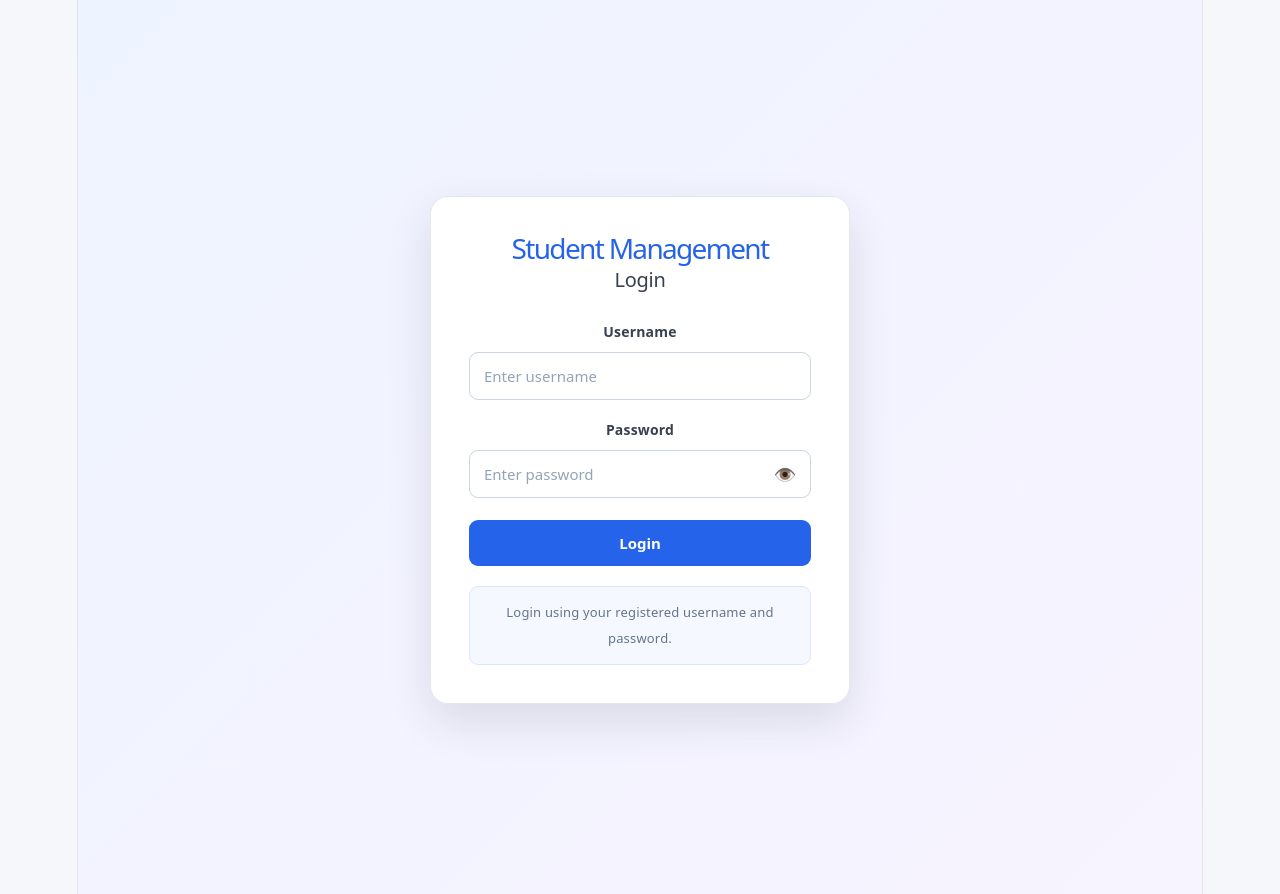
Test case: opens the Change Password form
Type "testuser" into the field labelled "Username".
click(640, 376); type("testuser")  # box [469,352,811,400]
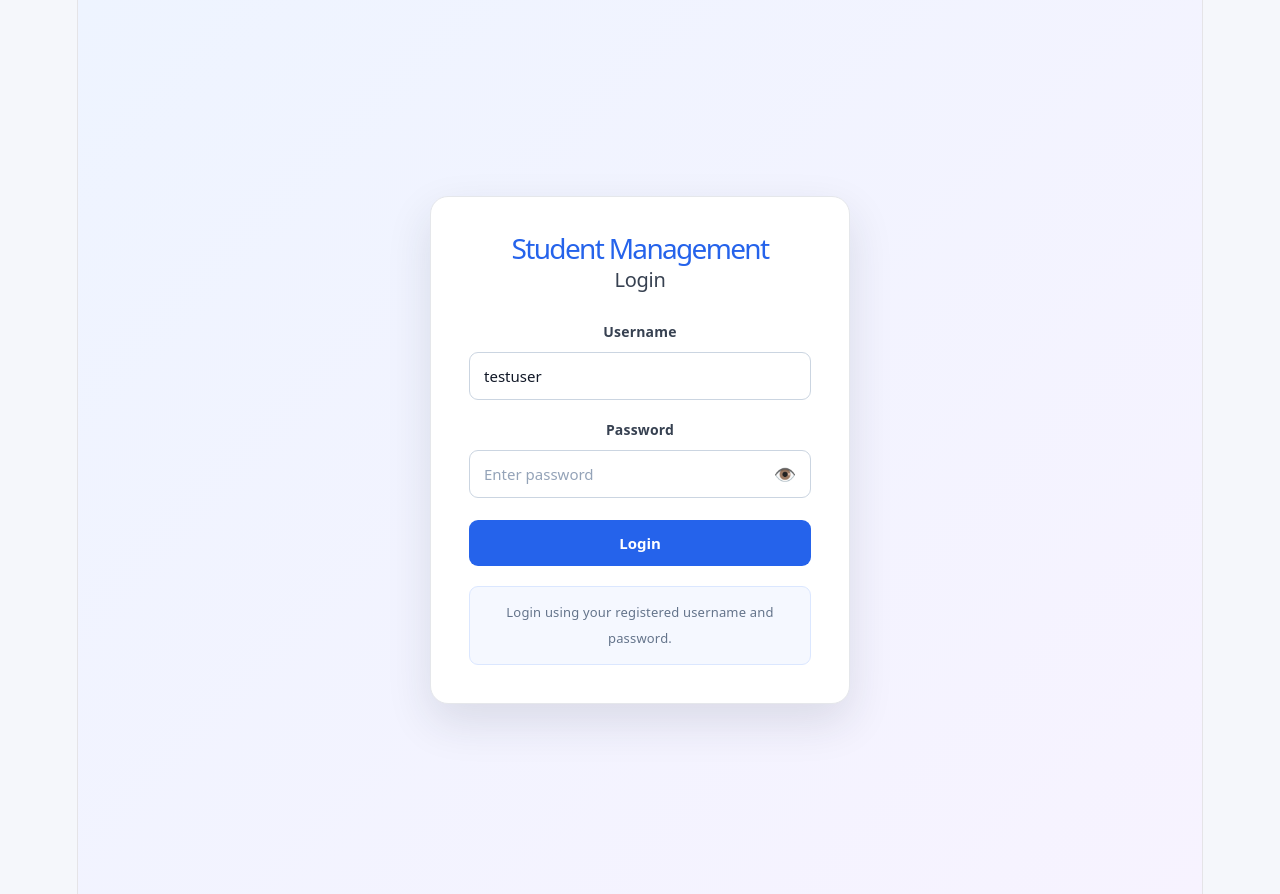
Type "correctpassword" into the password field labelled "Password".
click(640, 474); type("correctpassword")  # box [469,450,811,498]
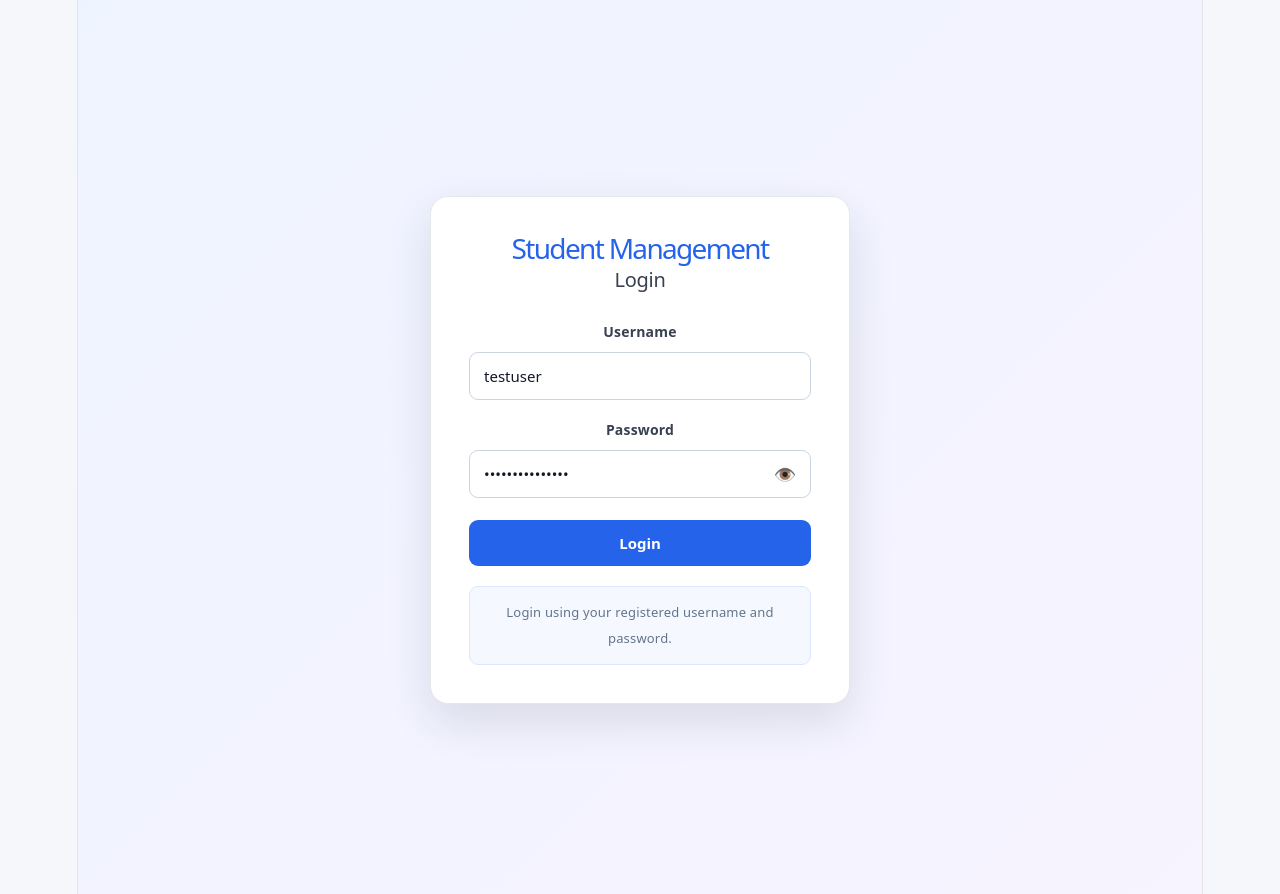
Click the button "Login".
click(640, 543)  # box [469,520,811,566]
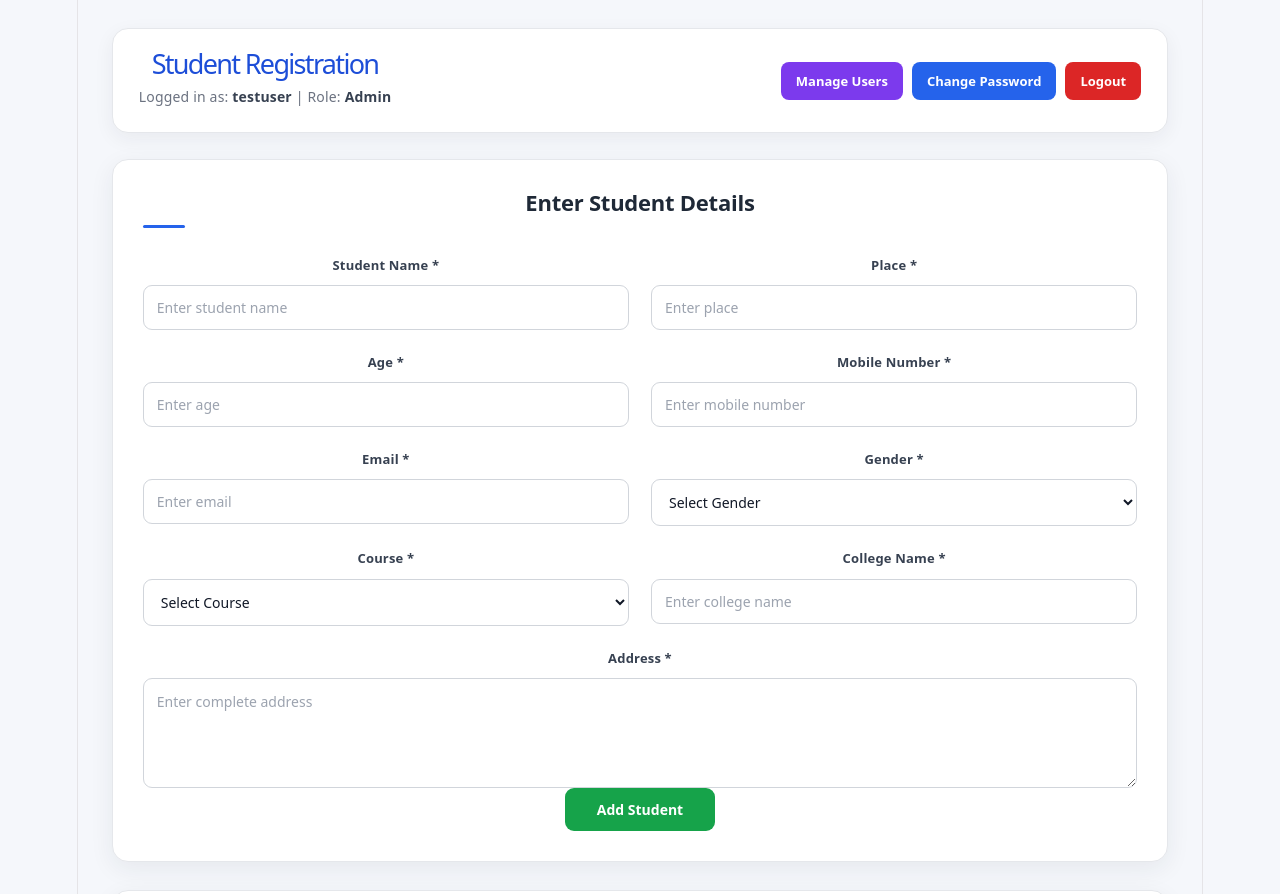
Expected: the heading "Student Registration" is shown, [139,51,391,77]
Click the button "Change Password".
click(984, 81)  # box [912,62,1056,100]
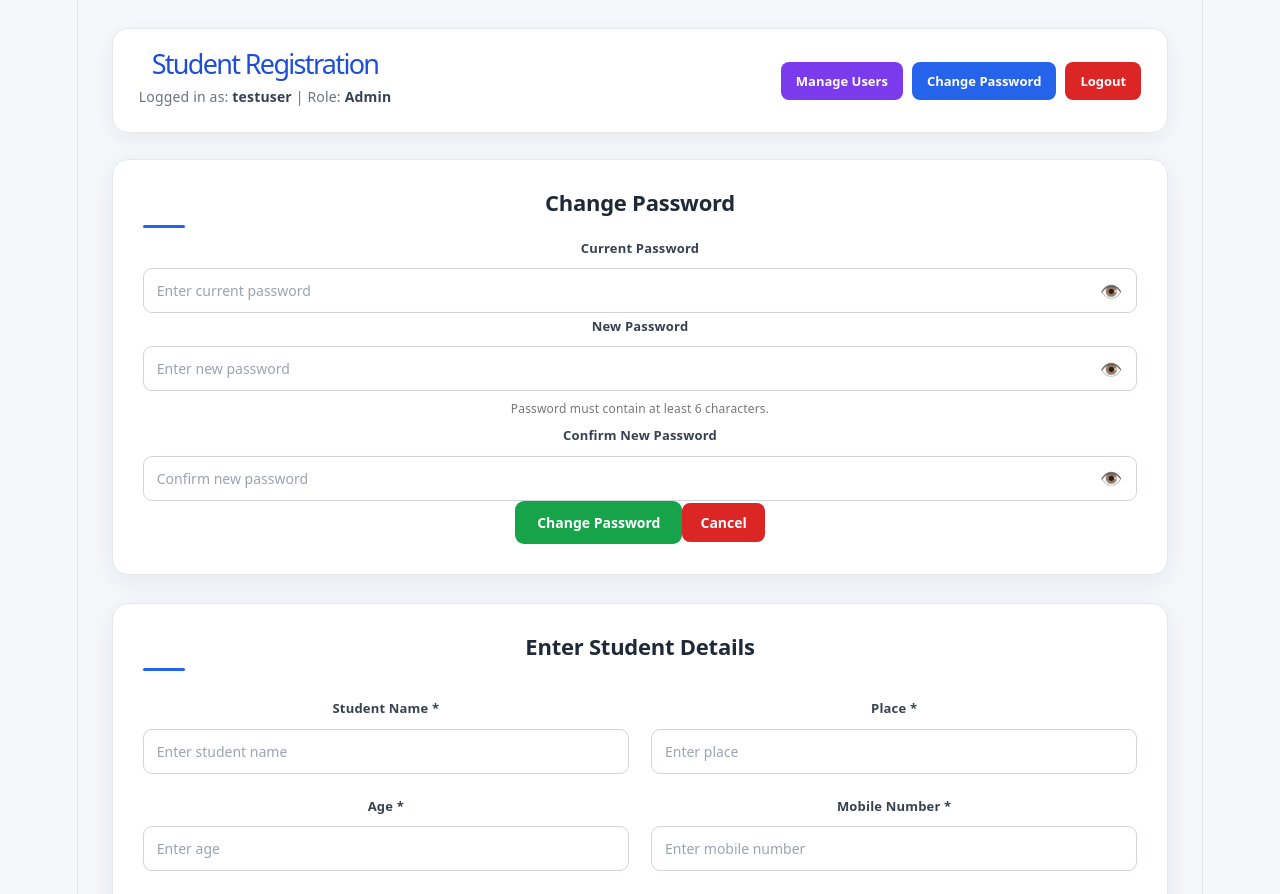
Expected: the password field labelled "Current Password" is shown, [143,268,1137,313]
Expected: the password field labelled "New Password" is shown, [143,346,1137,391]
Expected: the password field labelled "Confirm New Password" is shown, [143,456,1137,500]
